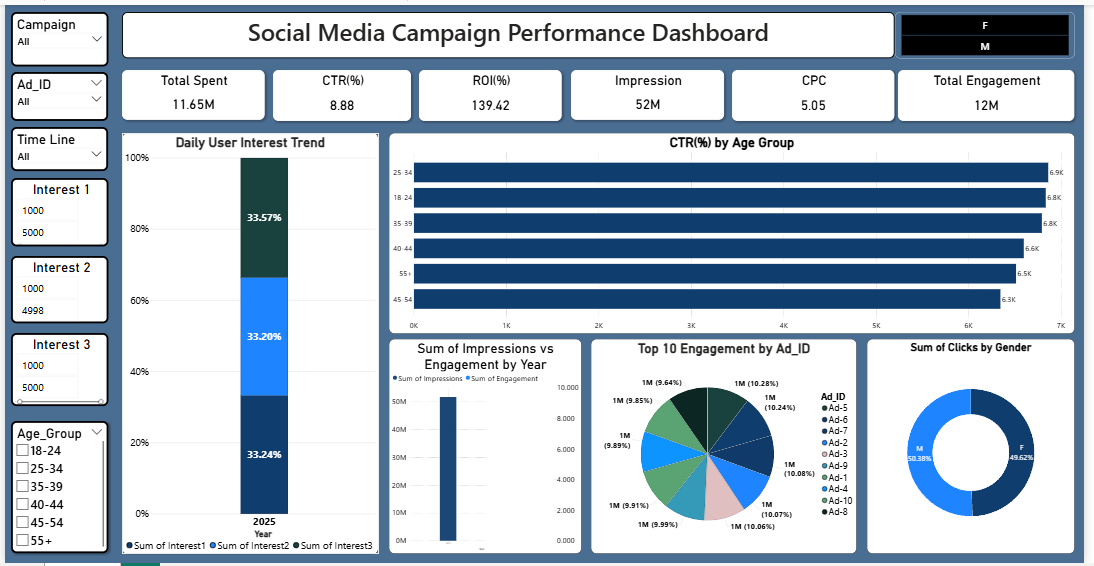

This screenshot's page, from the dashboard's own definition file:
{"tool":"powerbi","page":{"name":"Page 1","canvas":[5800,3000],"ordinal":0},"visuals":[{"type":"card","title":"CTR(%)","fields":{"Values":["Avg(social_media_campaign_large.CTR(%))"]},"box":[1440.6,349.2,742.2,274.4],"z":0},{"type":"card","title":"Impression","fields":{"Values":["Sum(social_media_campaign_large.Impressions)"]},"box":[3043.4,349.2,823.2,268.2],"z":1000},{"type":"card","title":"Total Spent","fields":{"Values":["Sum(social_media_campaign_large.Total_Spent)"]},"box":[629.9,349.2,767.1,268.2],"z":2000},{"type":"card","title":"ROI(%)","fields":{"Values":["Avg(social_media_campaign_large.ROI(%))"]},"box":[2226.5,349.2,767.1,274.4],"z":3000},{"type":"card","title":"Total Engagement","fields":{"Values":["Sum(social_media_campaign_large.Engagement)"]},"box":[4802.2,349.2,948,274.4],"z":4000},{"type":"card","title":"CPC","fields":{"Values":["Avg(social_media_campaign_large.CPC)"]},"box":[3910.3,349.2,873.1,274.4],"z":5000},{"type":"slicer","fields":{"Values":["social_media_campaign_large.Campaign"]},"box":[31.2,37.4,523.9,293.1],"z":6000},{"type":"slicer","fields":{"Values":["social_media_campaign_large.Ad_ID"]},"box":[32.3,360.2,521.5,263.4],"z":7000},{"type":"slicer","fields":{"Values":["social_media_campaign_large.Date"]},"box":[32.3,655.9,521.5,236.6],"z":8000},{"type":"slicer","title":"Interest 1","fields":{"Values":["social_media_campaign_large.Interest1"]},"box":[31.2,929.2,523.9,368],"z":9000},{"type":"slicer","title":"Interest 2","fields":{"Values":["social_media_campaign_large.Interest2"]},"box":[31.2,1347.1,523.9,361.7],"z":10000},{"type":"slicer","title":"Interest 3","fields":{"Values":["social_media_campaign_large.Interest3"]},"box":[31.2,1764.9,523.9,392.9],"z":11000},{"type":"slicer","fields":{"Values":["social_media_campaign_large.Age_Group"]},"box":[31.2,2238.9,523.9,711],"z":12000},{"type":"slicer","fields":{"Values":["social_media_campaign_large.Gender"]},"box":[4783.4,37.4,966.7,249.5],"z":13000},{"type":"hundredPercentStackedColumnChart","title":"Daily User Interest Trend","fields":{"Category":["social_media_campaign_large.Date.Variation.Date Hierarchy.Year","social_media_campaign_large.Date.Variation.Date Hierarchy.Quarter","social_media_campaign_large.Date.Variation.Date Hierarchy.Month","social_media_campaign_large.Date.Variation.Date Hierarchy.Day"],"Y":["Sum(social_media_campaign_large.Interest1)","Sum(social_media_campaign_large.Interest2)","Sum(social_media_campaign_large.Interest3)"]},"box":[629.9,686,1378.3,2263.9],"z":14000},{"type":"clusteredBarChart","title":"CTR(%) by Age Group","fields":{"Category":["social_media_campaign_large.Age_Group"],"Y":["Sum(social_media_campaign_large.CTR(%))"]},"box":[2064.3,686,3685.8,1078.9],"z":15000},{"type":"donutChart","fields":{"Category":["social_media_campaign_large.Gender"],"Y":["Sum(social_media_campaign_large.Clicks)"]},"box":[4633.8,1796.1,1116.3,1153.8],"z":16000},{"type":"pieChart","title":"Top 10 Engagement by Ad_ID","fields":{"Category":["social_media_campaign_large.Ad_ID","social_media_campaign_large.Campaign"],"Y":["Sum(social_media_campaign_large.Engagement)"]},"box":[3149.5,1796.1,1428.2,1153.8],"z":17000},{"type":"lineClusteredColumnComboChart","title":"Sum of Impressions vs Engagement by Year","fields":{"Category":["social_media_campaign_large.Date.Variation.Date Hierarchy.Year","social_media_campaign_large.Date.Variation.Date Hierarchy.Quarter","social_media_campaign_large.Date.Variation.Date Hierarchy.Month","social_media_campaign_large.Date.Variation.Date Hierarchy.Day"],"Y":["Sum(social_media_campaign_large.Impressions)"],"Y2":["Sum(social_media_campaign_large.Engagement)"]},"box":[2064.3,1796.1,1035.3,1153.8],"z":18000},{"type":"textbox","box":[629.9,37.4,4153.5,249.5],"z":19000}]}

Visuals, with their boxes in screenshot pixels (x1, y1, x2, y2), scaled from the page's 5800x3000 canvas onto the 1094x566 screenshot:
"CTR(%)" card: rect(272, 66, 412, 118)
"Impression" card: rect(574, 66, 729, 116)
"Total Spent" card: rect(119, 66, 264, 116)
"ROI(%)" card: rect(420, 66, 565, 118)
"Total Engagement" card: rect(906, 66, 1085, 118)
"CPC" card: rect(738, 66, 902, 118)
slicer - social_media_campaign_large.Campaign: rect(6, 7, 105, 62)
slicer - social_media_campaign_large.Ad_ID: rect(6, 68, 104, 118)
slicer - social_media_campaign_large.Date: rect(6, 124, 104, 168)
"Interest 1" slicer: rect(6, 175, 105, 245)
"Interest 2" slicer: rect(6, 254, 105, 322)
"Interest 3" slicer: rect(6, 333, 105, 407)
slicer - social_media_campaign_large.Age_Group: rect(6, 422, 105, 557)
slicer - social_media_campaign_large.Gender: rect(902, 7, 1085, 54)
"Daily User Interest Trend" hundredPercentStackedColumnChart: rect(119, 129, 379, 557)
"CTR(%) by Age Group" clusteredBarChart: rect(389, 129, 1085, 333)
donutChart - social_media_campaign_large.Gender x Sum(social_media_campaign_large.Clicks): rect(874, 339, 1085, 557)
"Top 10 Engagement by Ad_ID" pieChart: rect(594, 339, 863, 557)
"Sum of Impressions vs Engagement by Year" lineClusteredColumnComboChart: rect(389, 339, 585, 557)
textbox: rect(119, 7, 902, 54)
